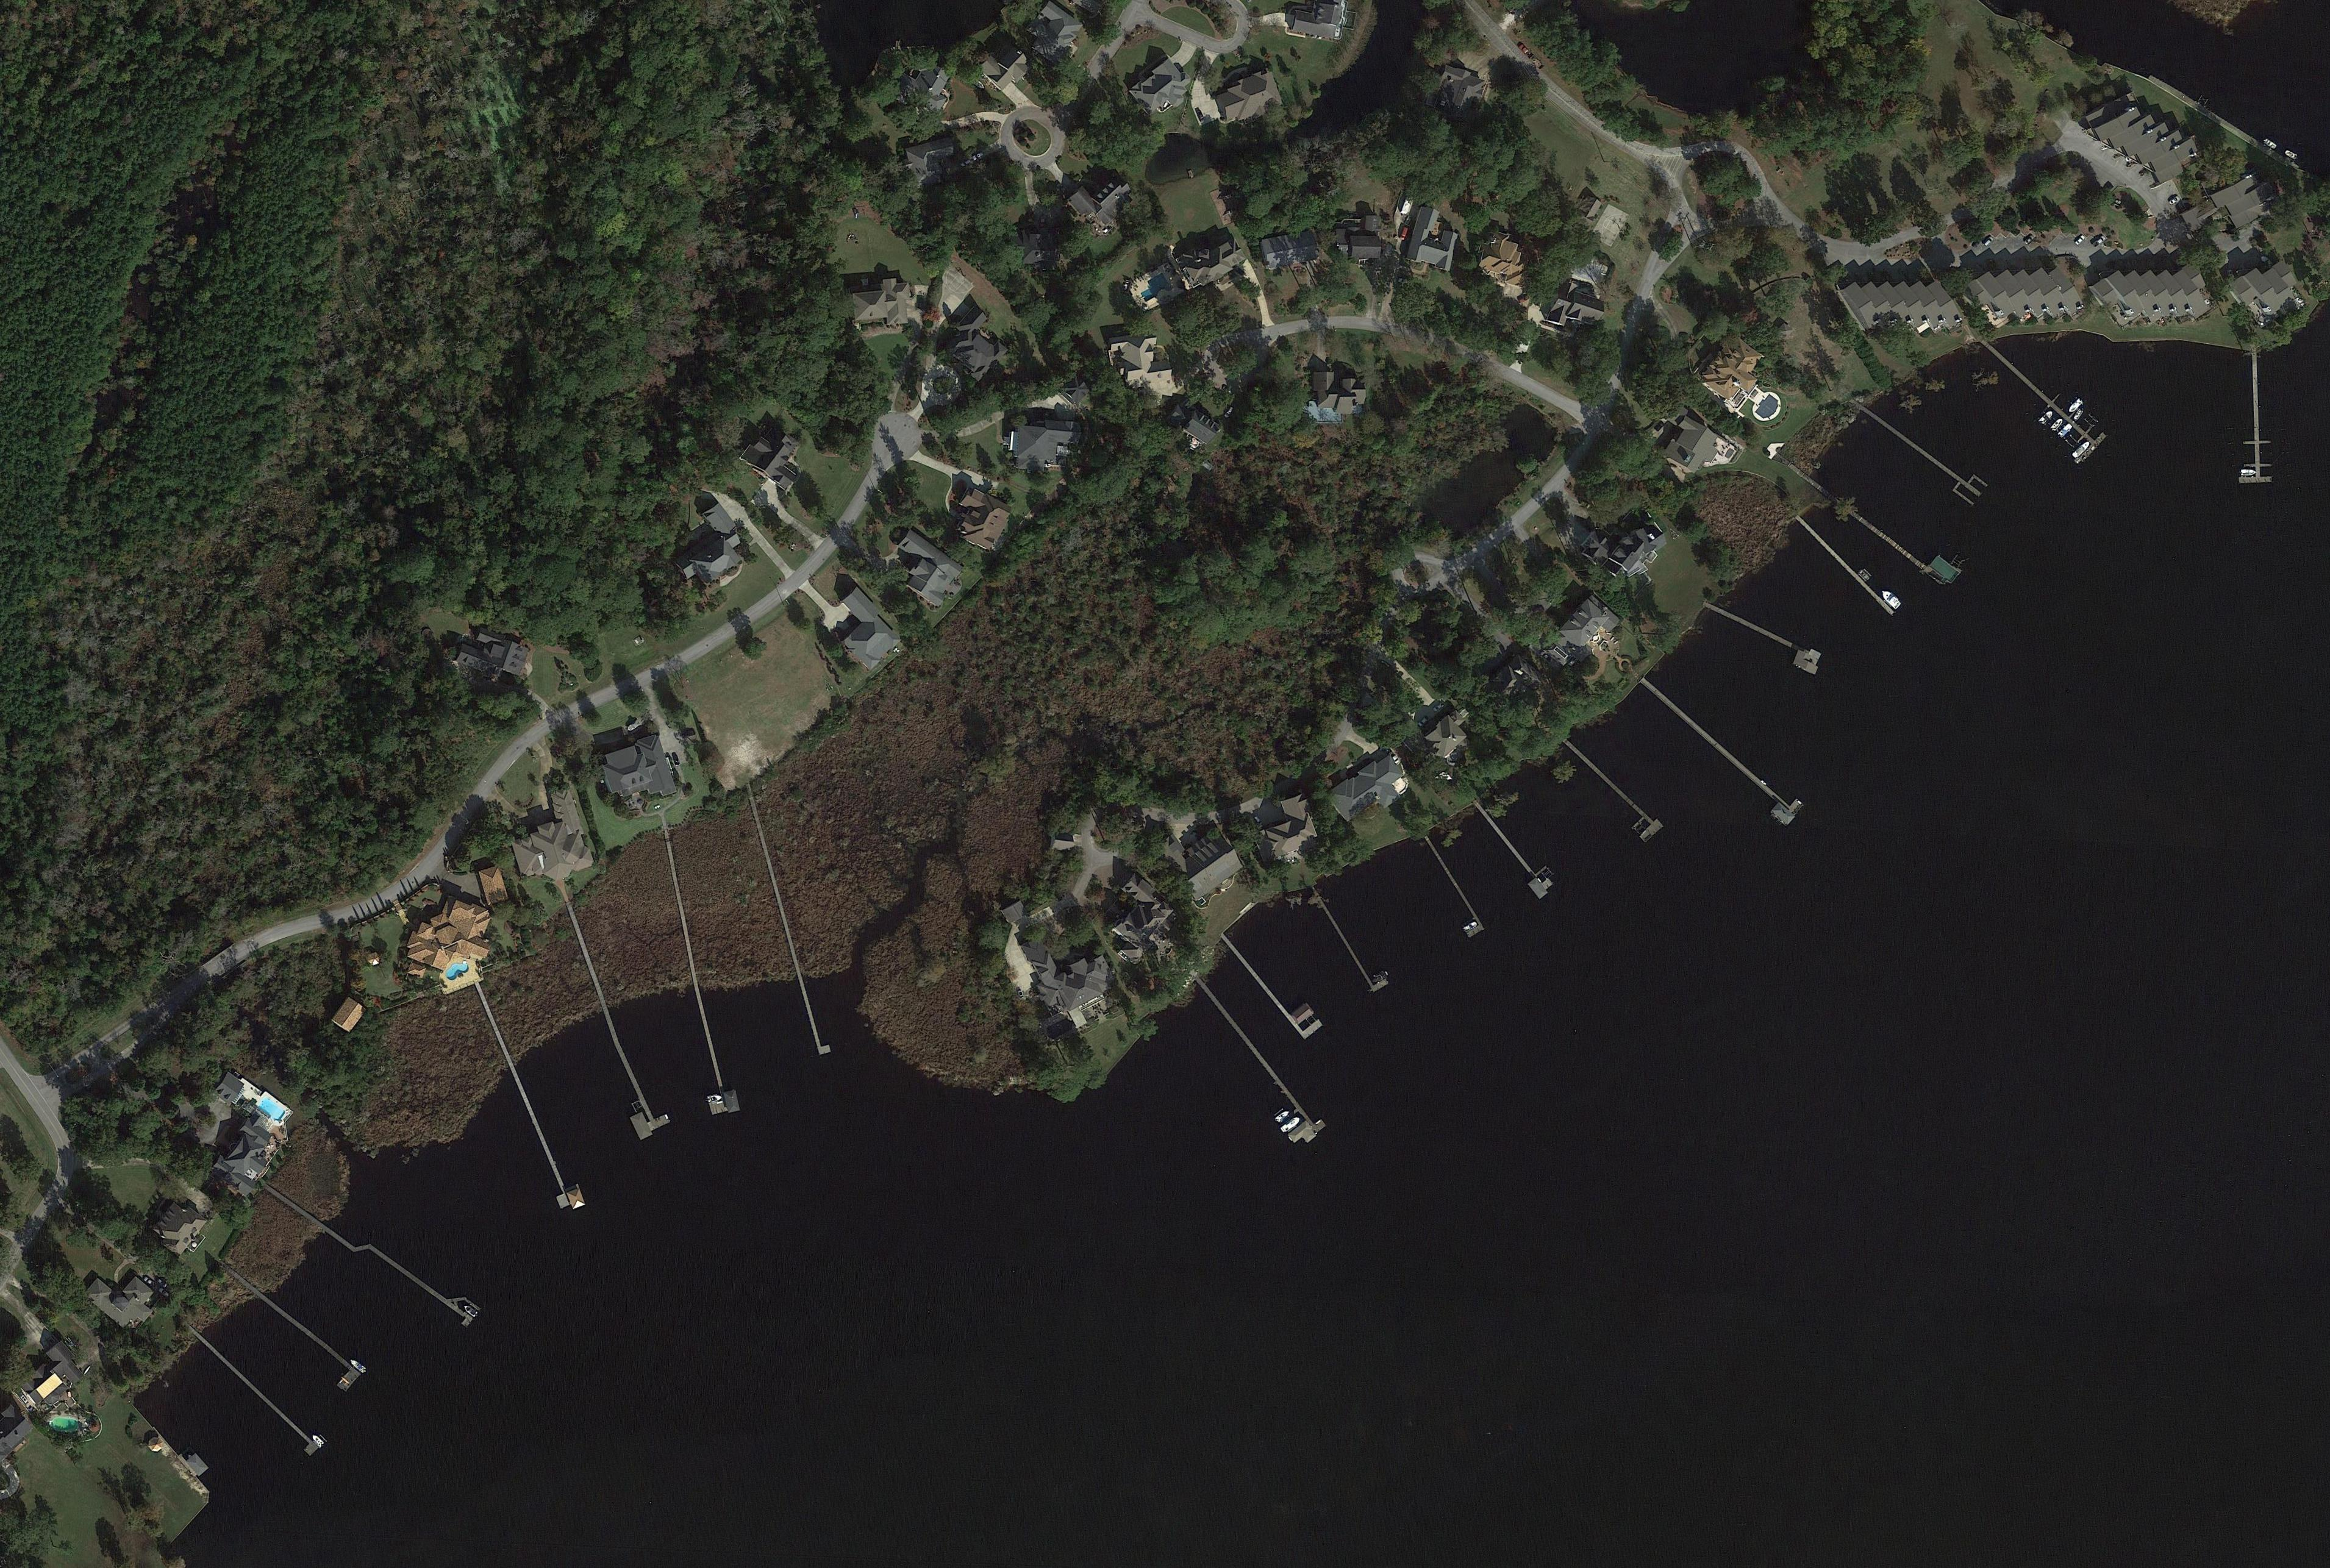harbor: (273, 1171, 482, 1341), (469, 978, 587, 1217), (1634, 668, 1805, 829), (1187, 976, 1328, 1153), (565, 943, 674, 1143), (1804, 461, 1962, 592), (1971, 323, 2108, 465), (663, 887, 742, 1119), (759, 830, 833, 1056), (198, 1331, 327, 1457), (231, 1278, 363, 1394), (1857, 396, 1989, 508), (1554, 732, 1666, 847), (1224, 925, 1324, 1042), (1796, 514, 1897, 618), (1704, 600, 1826, 677), (1474, 800, 1556, 901), (1320, 895, 1390, 993), (1418, 840, 1485, 939), (2234, 352, 2273, 483)
ship: (1879, 588, 1903, 611), (1279, 1115, 1303, 1136), (2071, 440, 2092, 459), (349, 1356, 368, 1375), (1371, 969, 1390, 985), (1274, 1108, 1292, 1125), (2068, 398, 2084, 414), (463, 1303, 480, 1318), (2057, 422, 2073, 438), (2049, 416, 2064, 432), (309, 1433, 325, 1447), (2039, 410, 2054, 424), (1462, 921, 1478, 934), (2262, 137, 2278, 150), (2073, 408, 2084, 422), (972, 79, 987, 90), (2284, 149, 2298, 160), (2240, 469, 2256, 477)
